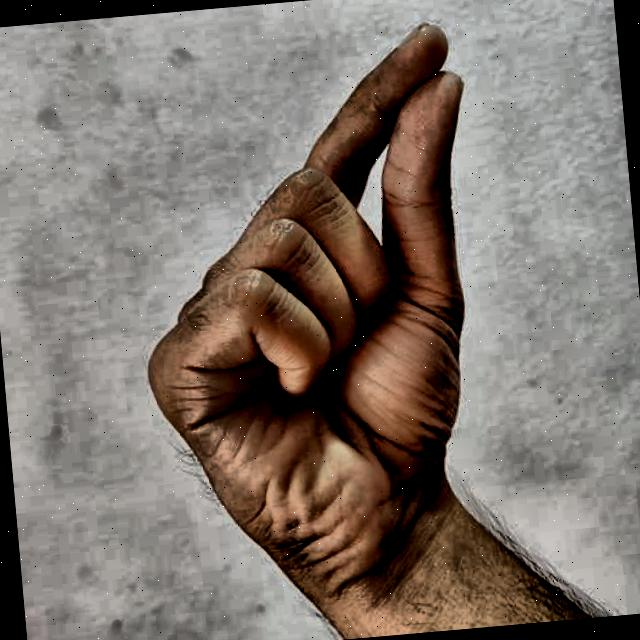Anusshar: (80, 1, 545, 640)
